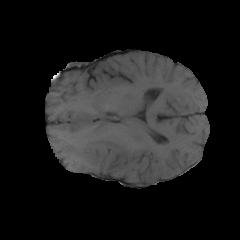glioma: (77, 131, 134, 173)
